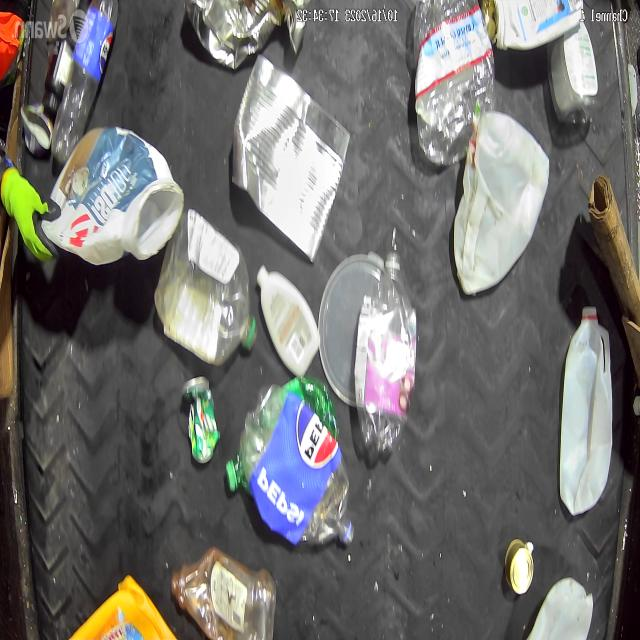can: (234, 49, 346, 257), (180, 363, 223, 475), (498, 525, 537, 602)
milk_jug: (452, 111, 549, 295), (555, 295, 616, 519)
plastic_bottle: (244, 386, 353, 539), (405, 7, 490, 166)
